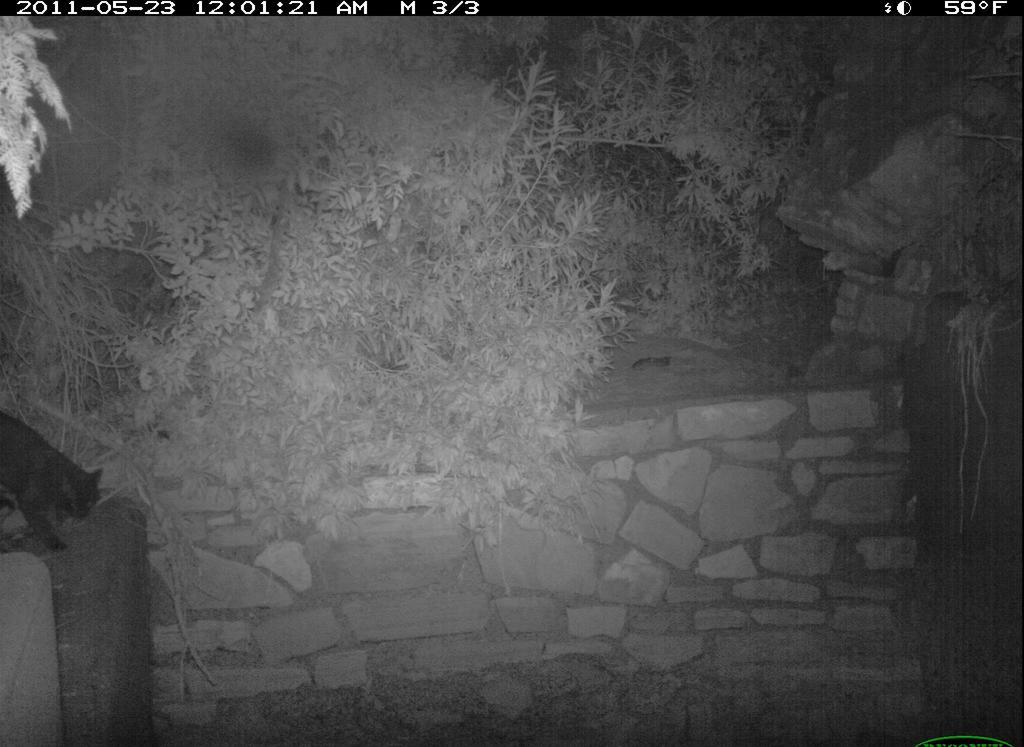cat: (3, 400, 111, 560)
